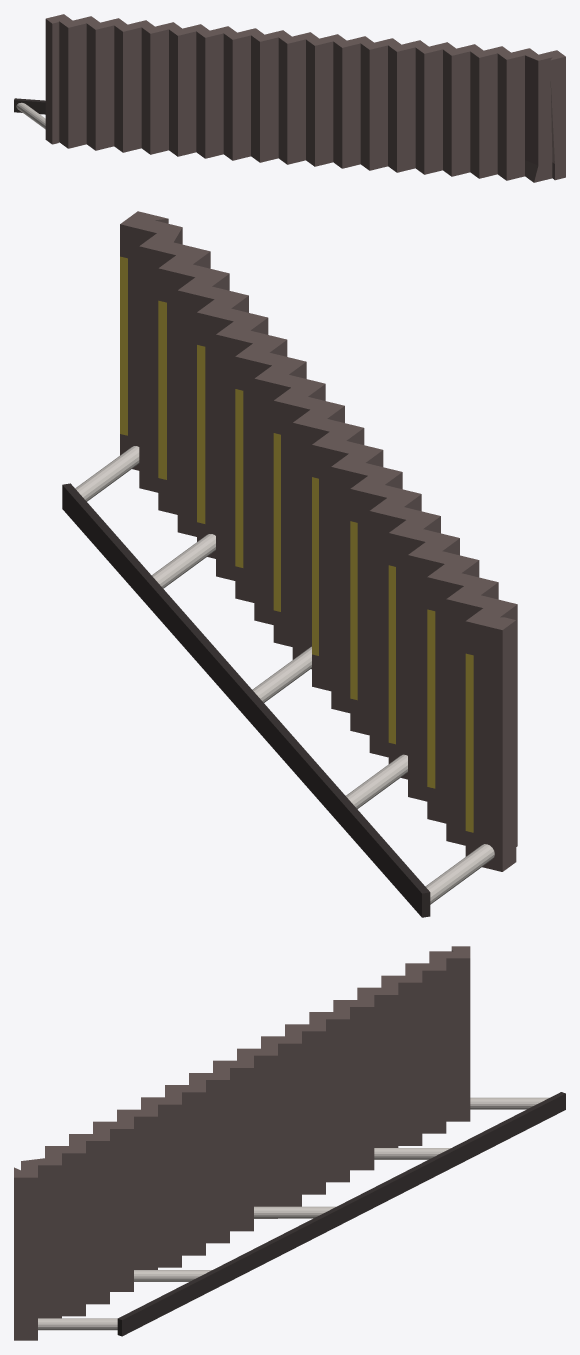
Rendered from EscalierAbrupte.fbx.
3 renders of one model, top to bottom at view 1: azimuth 30°, elevation 25°; view 2: azimuth 150°, elevation 25°; view 3: azimuth 270°, elevation 25°, orthographic. The views are drawn at different scales.
Visible parts, largest first — view 1: Escalier abrute; view 2: Escalier abrute; view 3: Escalier abrute.
Part boxes in pixels (bbox=[...]): Escalier abrute: bbox=[14, 14, 565, 182]; Escalier abrute: bbox=[62, 211, 517, 917]; Escalier abrute: bbox=[14, 946, 565, 1340].
Bounding box in the file's own units: 456 × 150 × 460.
